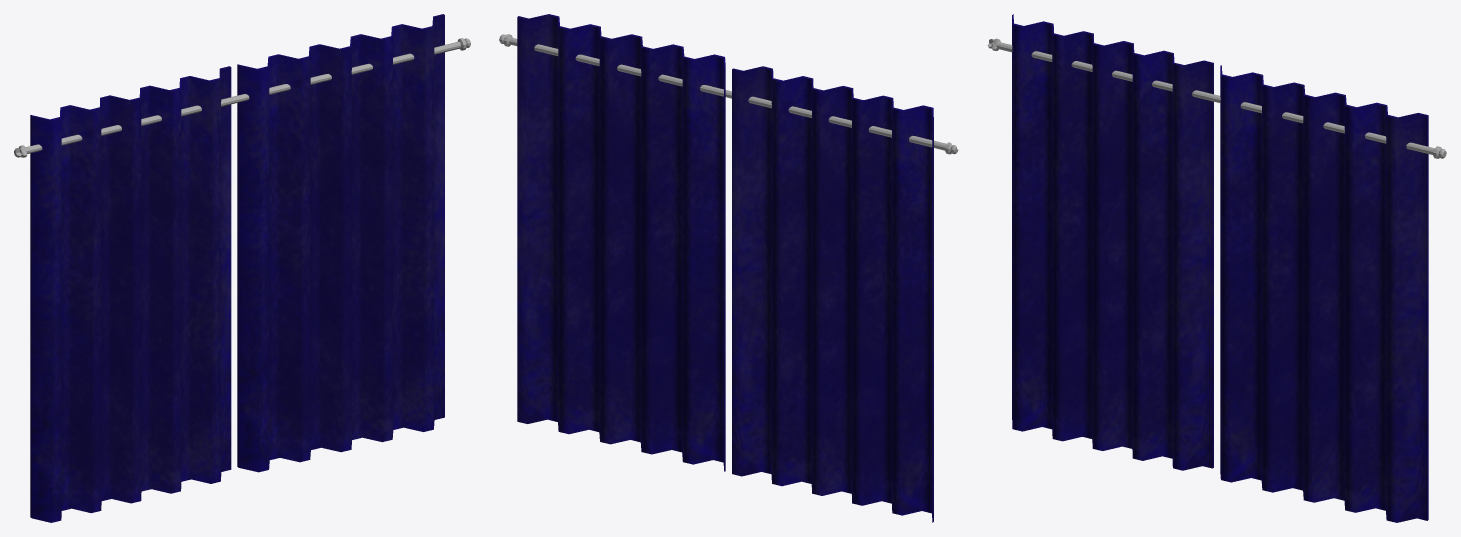
File: curtain.fbx
3 views of the same model, side by side, from view 1: azimuth 30°, elevation 25°; view 2: azimuth 150°, elevation 25°; view 3: azimuth 330°, elevation 25° (orthographic).
Parts seen in each view (by area): view 1: pPlane1, pPlane2, pCylinder1; view 2: pPlane1, pPlane2, pCylinder1; view 3: pPlane1, pPlane2, pCylinder1.
Part boxes in pixels (left/top/right/bottom): pPlane1: left=237, top=14, right=444, bottom=472; pPlane2: left=30, top=66, right=231, bottom=522; pCylinder1: left=14, top=38, right=470, bottom=157; pPlane1: left=517, top=14, right=725, bottom=471; pPlane2: left=732, top=66, right=933, bottom=522; pCylinder1: left=499, top=34, right=958, bottom=154; pPlane1: left=1220, top=65, right=1428, bottom=522; pPlane2: left=1012, top=14, right=1213, bottom=470; pCylinder1: left=987, top=38, right=1446, bottom=158.
Size of the model in its own units: 2.09 by 1.77 by 0.0886.
2 materials, 1 textured.
